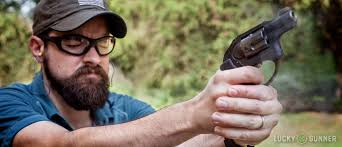Gun: (218, 13, 309, 73)
